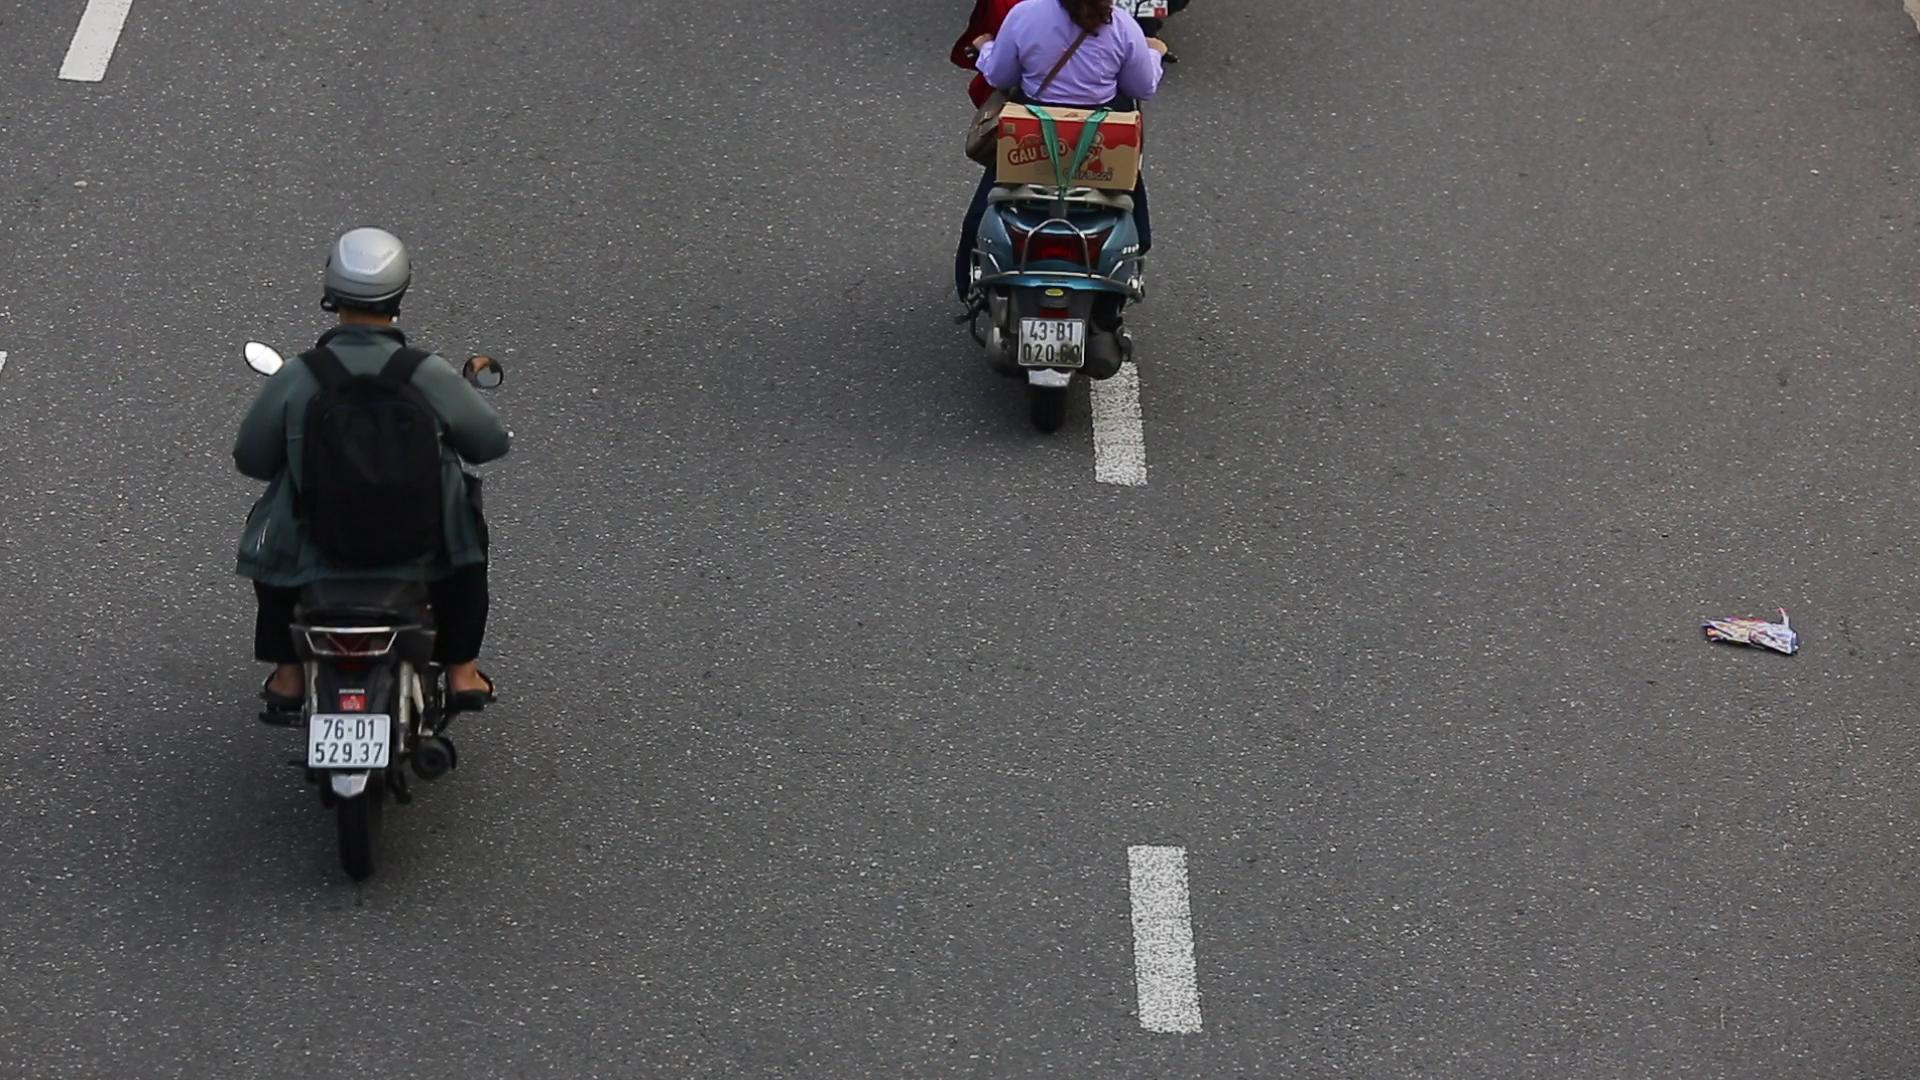motobike: (215, 224, 566, 901)
